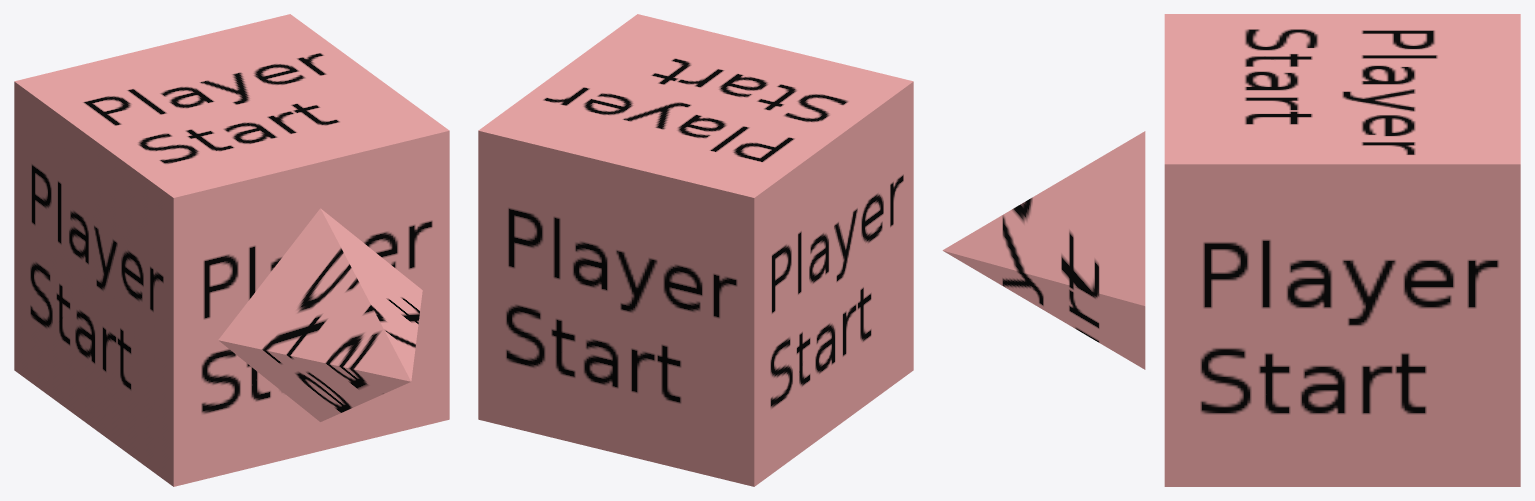
File: PlayerStart.obj
3 renders of one model, left to right at view 1: azimuth 30°, elevation 25°; view 2: azimuth 150°, elevation 25°; view 3: azimuth 270°, elevation 25°, orthographic. The views are drawn at different scales.
Parts seen in each view (by area): view 1: pCube1, pCone1; view 2: pCube1; view 3: pCube1, pCone1.
Boxes of the visible parts, left/top/right/bottom form: pCube1: left=14, top=14, right=449, bottom=486; pCone1: left=218, top=208, right=422, bottom=421; pCube1: left=478, top=14, right=913, bottom=486; pCube1: left=1164, top=14, right=1520, bottom=486; pCone1: left=942, top=131, right=1145, bottom=369.
Size of the model in its own units: 9.55 by 9.55 by 15.52.
